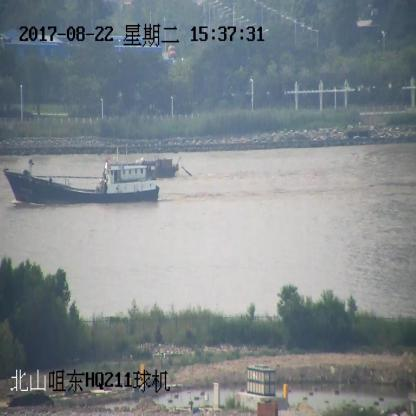Fishing Boat: (3, 158, 160, 206), (119, 154, 194, 180)
